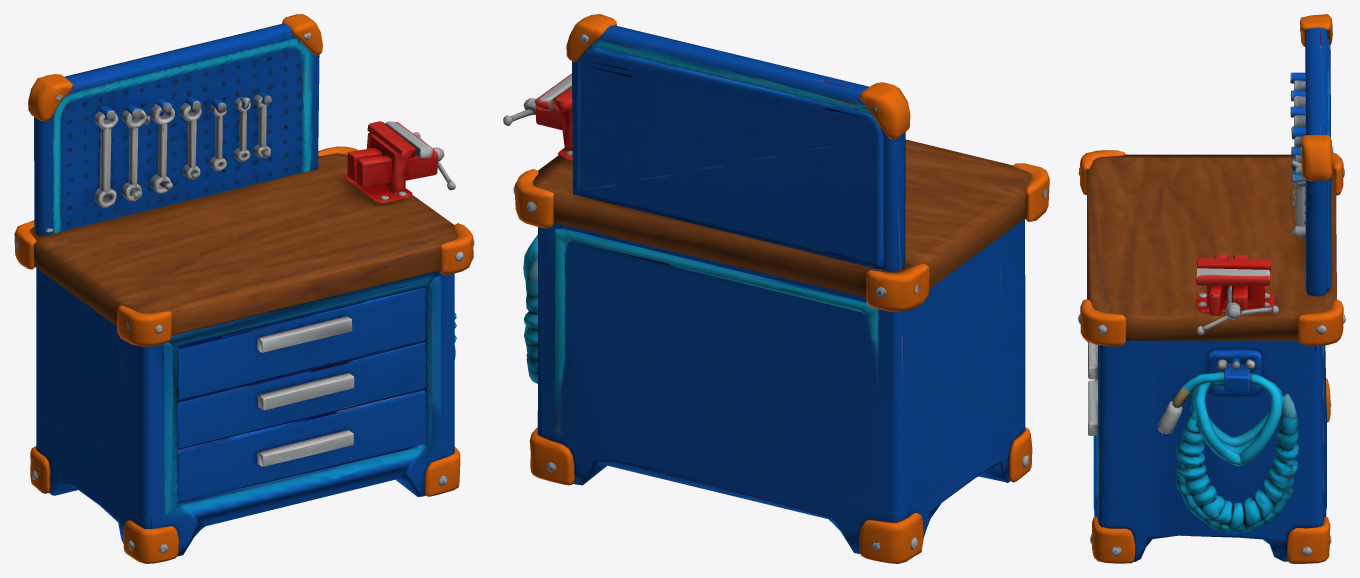
Rendered from garage_01.glb.
The picture shows the model from 3 angles, left to right: view 1: azimuth 30°, elevation 25°; view 2: azimuth 150°, elevation 25°; view 3: azimuth 270°, elevation 25°; orthographic projection. The views are drawn at different scales.
Parts seen in each view (by area): view 1: geometry_0; view 2: geometry_0; view 3: geometry_0.
Boxes of the visible parts, left/top/right/bottom form: geometry_0: left=14, top=14, right=474, bottom=563; geometry_0: left=503, top=14, right=1049, bottom=563; geometry_0: left=1078, top=14, right=1345, bottom=563.
Bounding box in the file's own units: 0.9982 × 1 × 0.609.
1 material, 1 textured.
